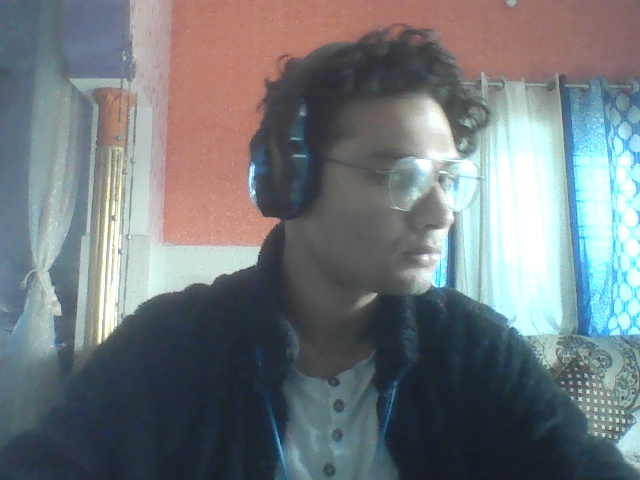real: (282, 37, 481, 319)
